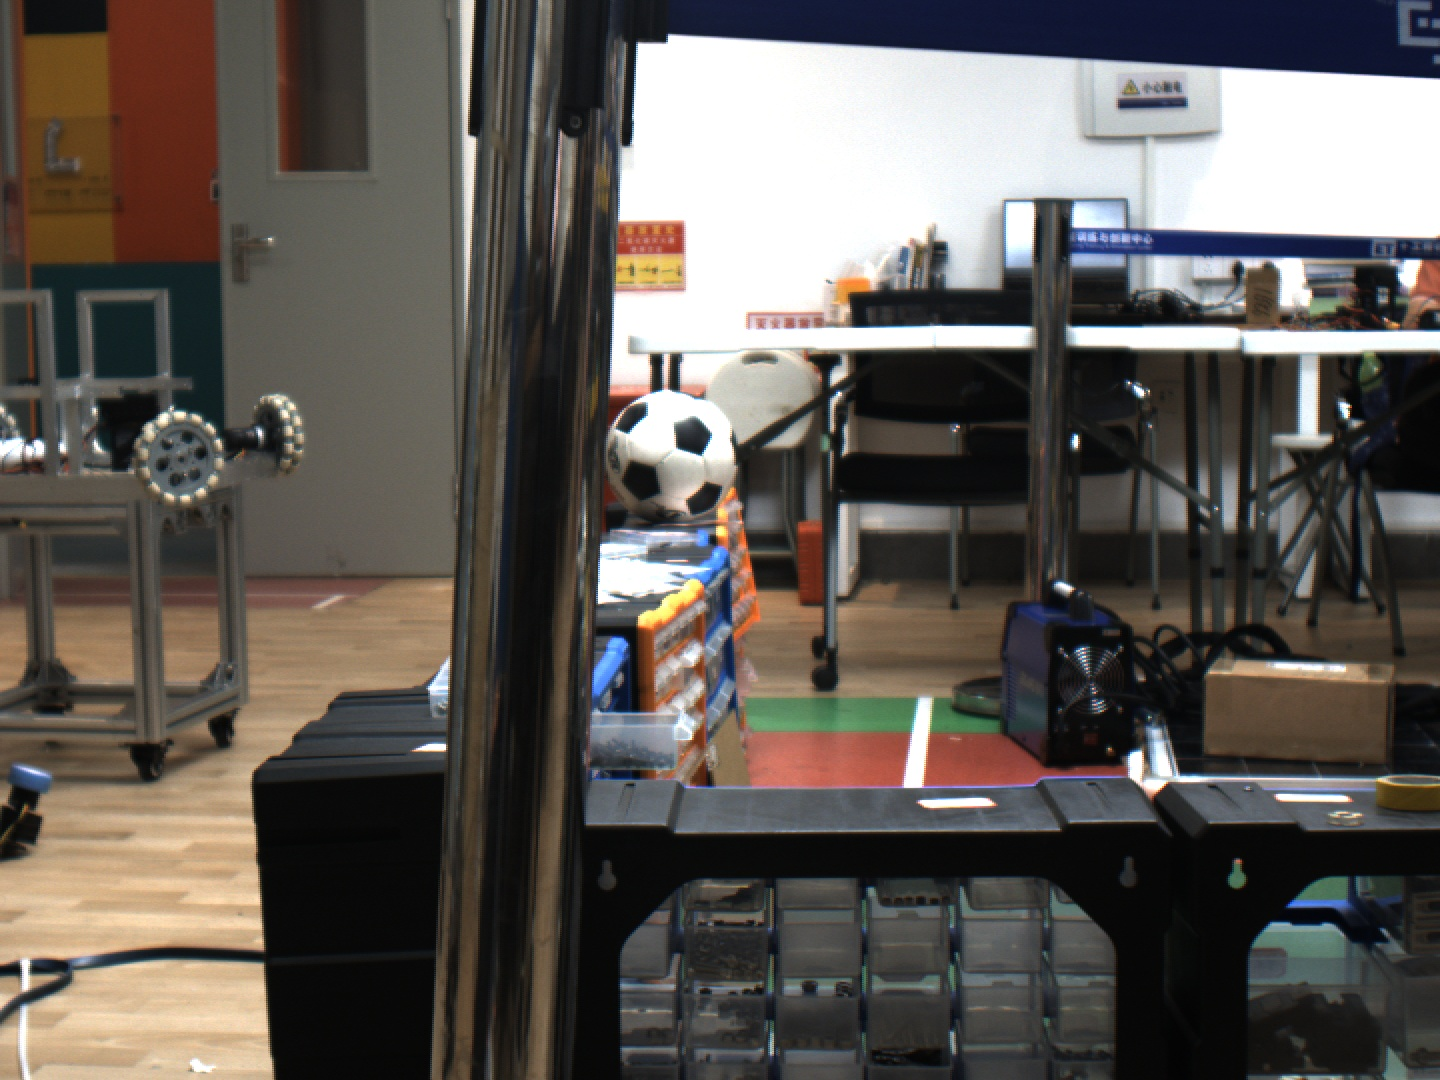ball: (591, 362, 763, 538)
